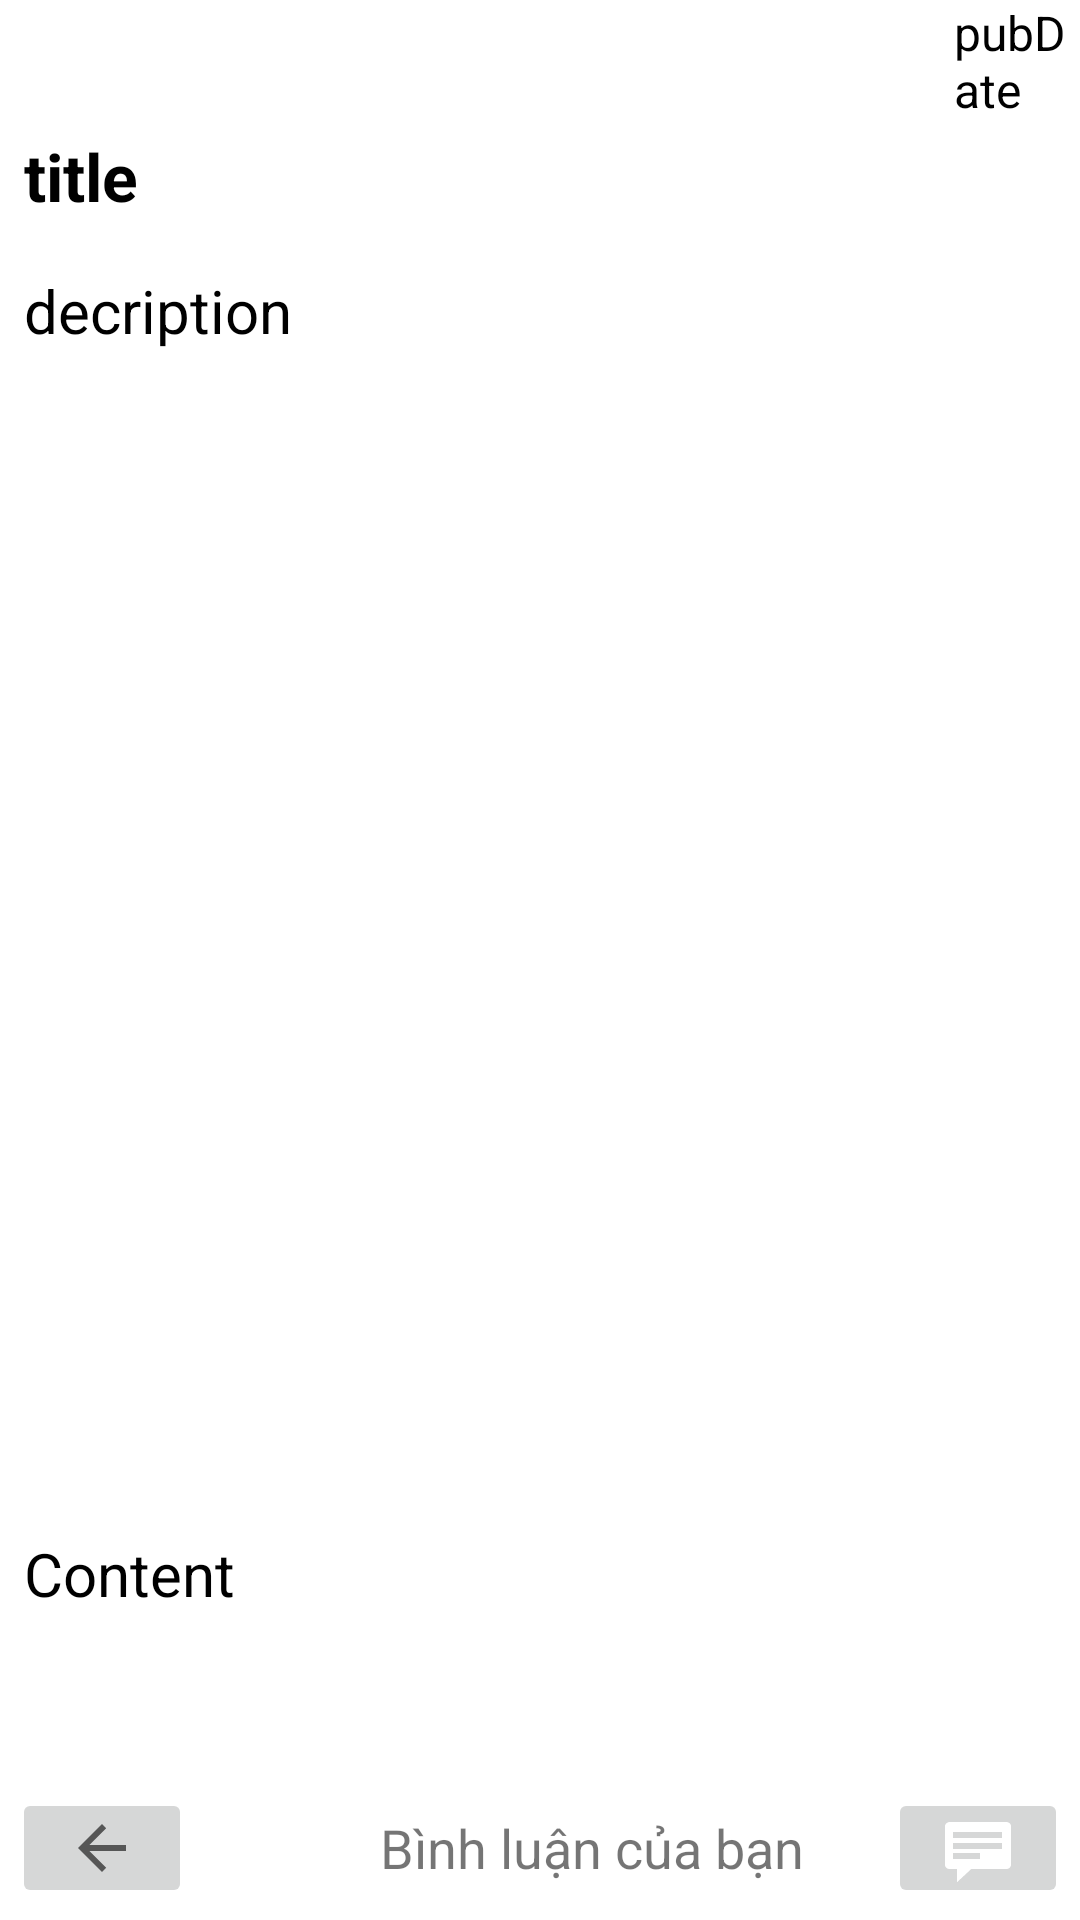

Named icons in this screenshot (1080 x 1920) and their bounding boxes, {"left": x1, "top": y1, "right": x2, "bottom": y2}:
chat: {"left": 900, "top": 1806, "right": 1056, "bottom": 1890}
